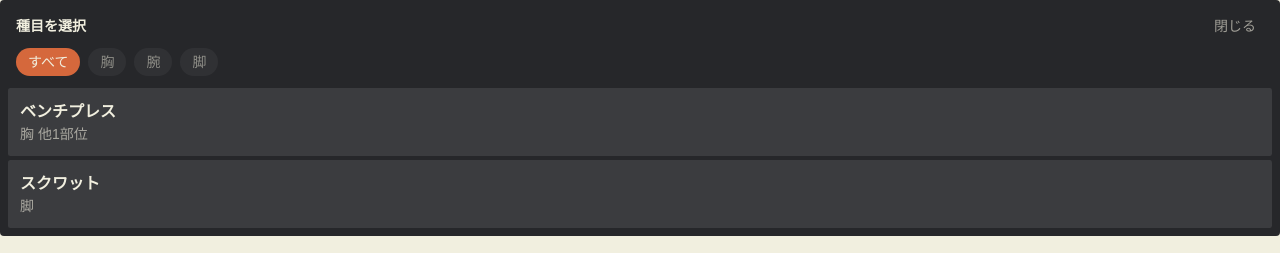
ExerciseSelect › 部位タブで一覧を絞り込み、「すべて」で元に戻る
「脚」を選ぶとスクワットだけ残る。
Step 1. Click the button "脚" → (200, 62), box 180,48 -> 218,76
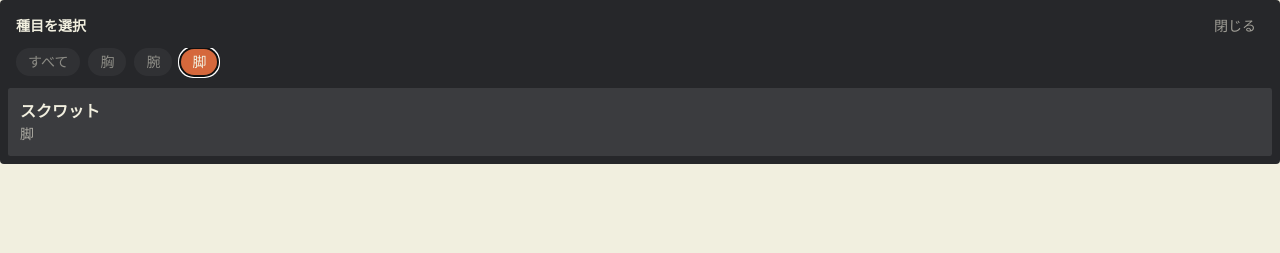
Check: the text "スクワット" is shown, box 20,103 -> 100,120
Check: the button "ベンチプレス" is gone
「すべて」で両方戻る。
Step 2. Click the button "すべて" → (48, 62), box 16,48 -> 80,76
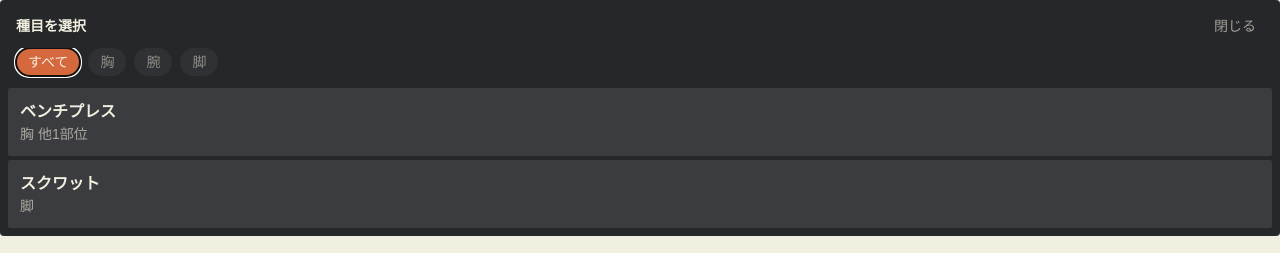
Check: the text "スクワット" is shown, box 20,175 -> 100,192
Check: the text "ベンチプレス" is shown, box 20,103 -> 116,120
